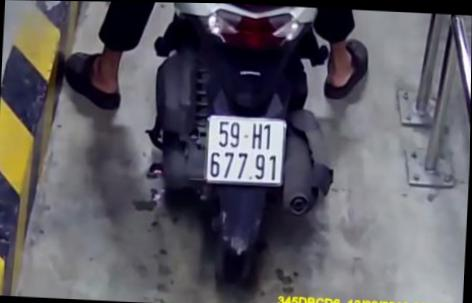LP: (202, 111, 289, 186)
